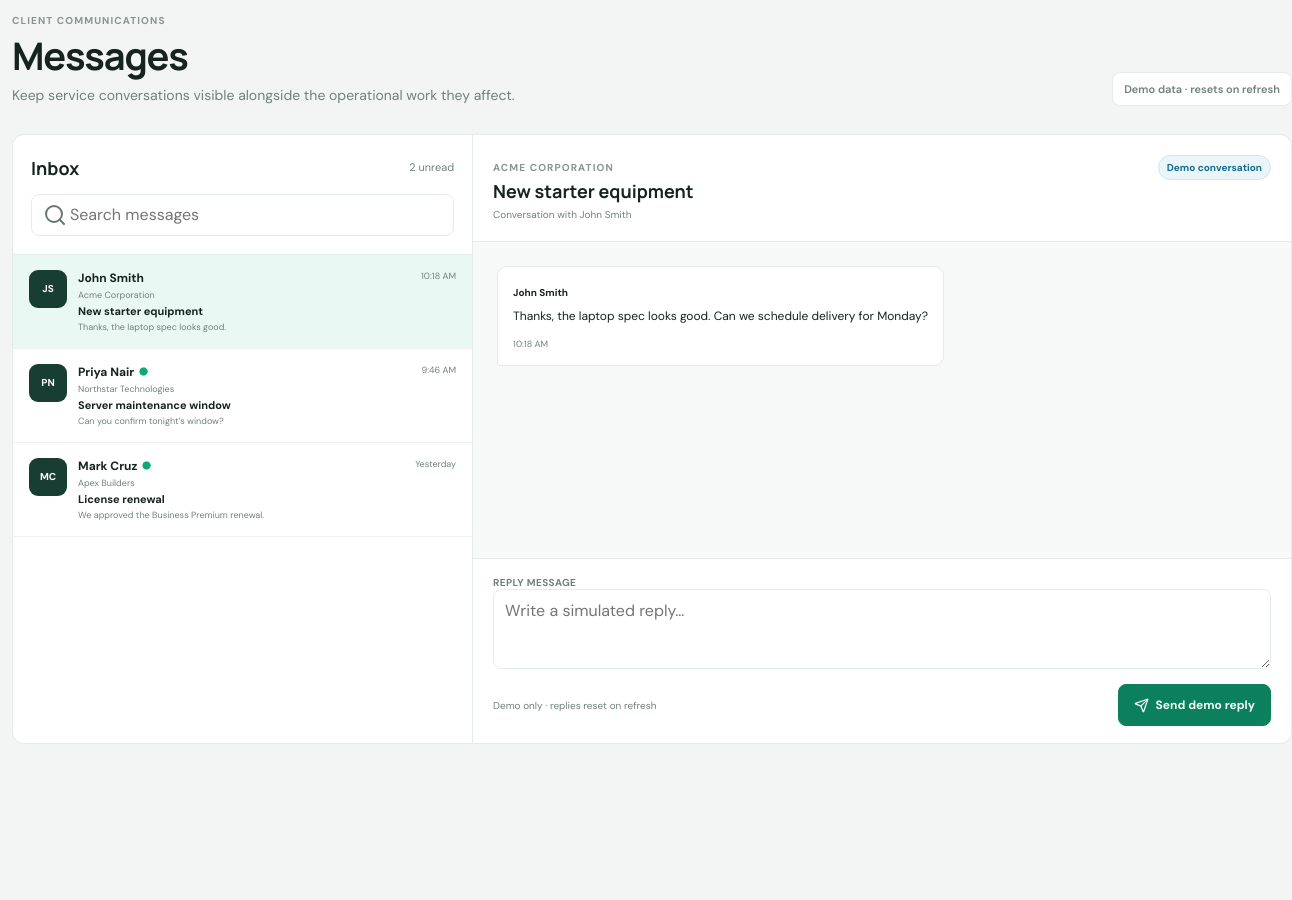
demo module pages › marks a selected conversation read and validates simulated replies
The width and height of the screenshot is (1292, 900).
Expected: the text "2 unread" is shown, [409,160,454,174]
Click the button with aria-label "Open conversation with Priya Nair": (48, 383) [13,349,472,443]
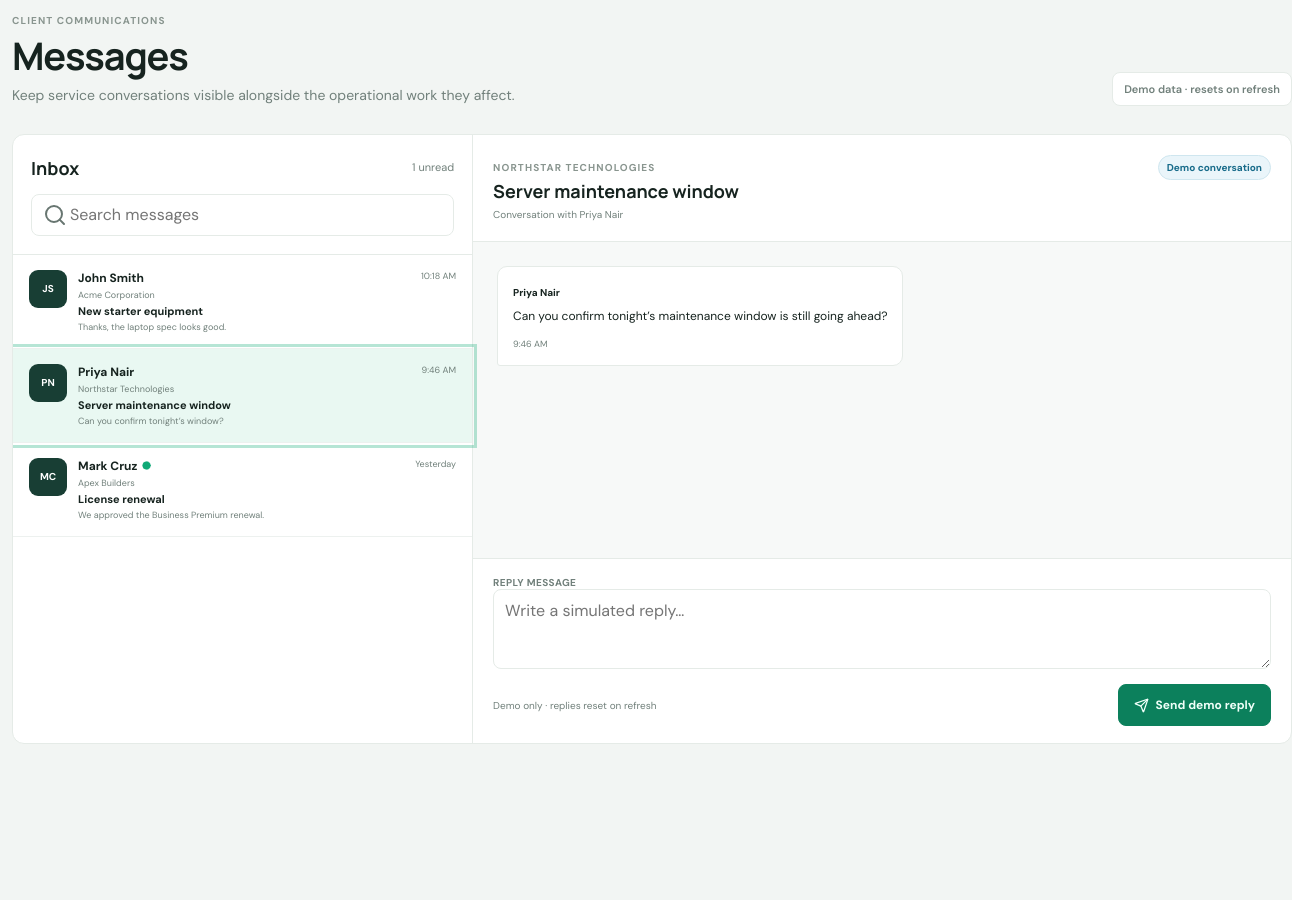
Expected: the text "1 unread" is shown, [412,160,454,174]
Click the button "Send demo reply": (1194, 706) [1118,684,1271,726]
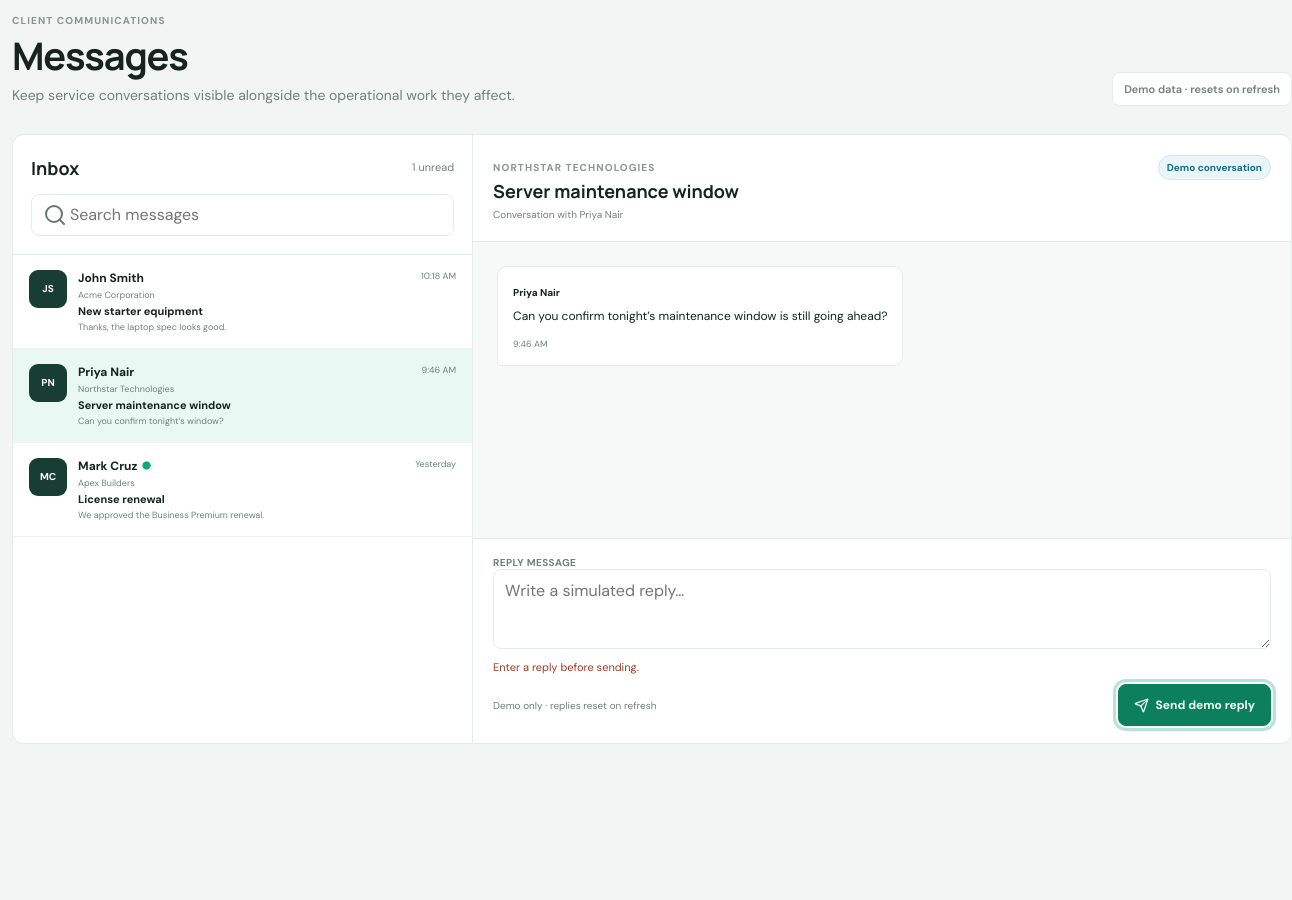
Expected: the text "Enter a reply before sending." is shown, [493,660,639,674]
In the text box labelled "Reply message": (882, 610) [493,570,1271,650], type "The maintenance window is confirmed."
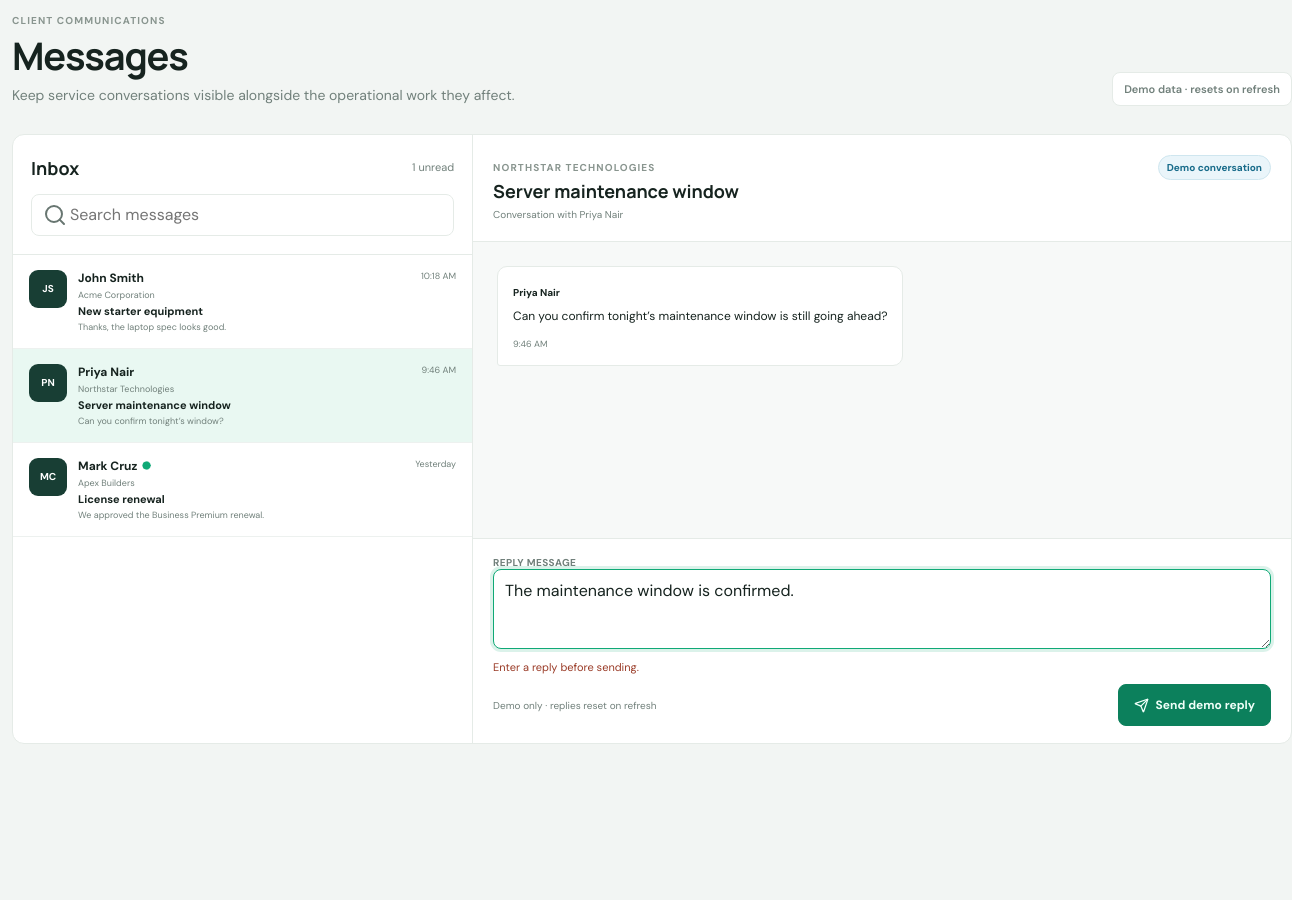
Click the button "Send demo reply": (1194, 706) [1118,684,1271,726]
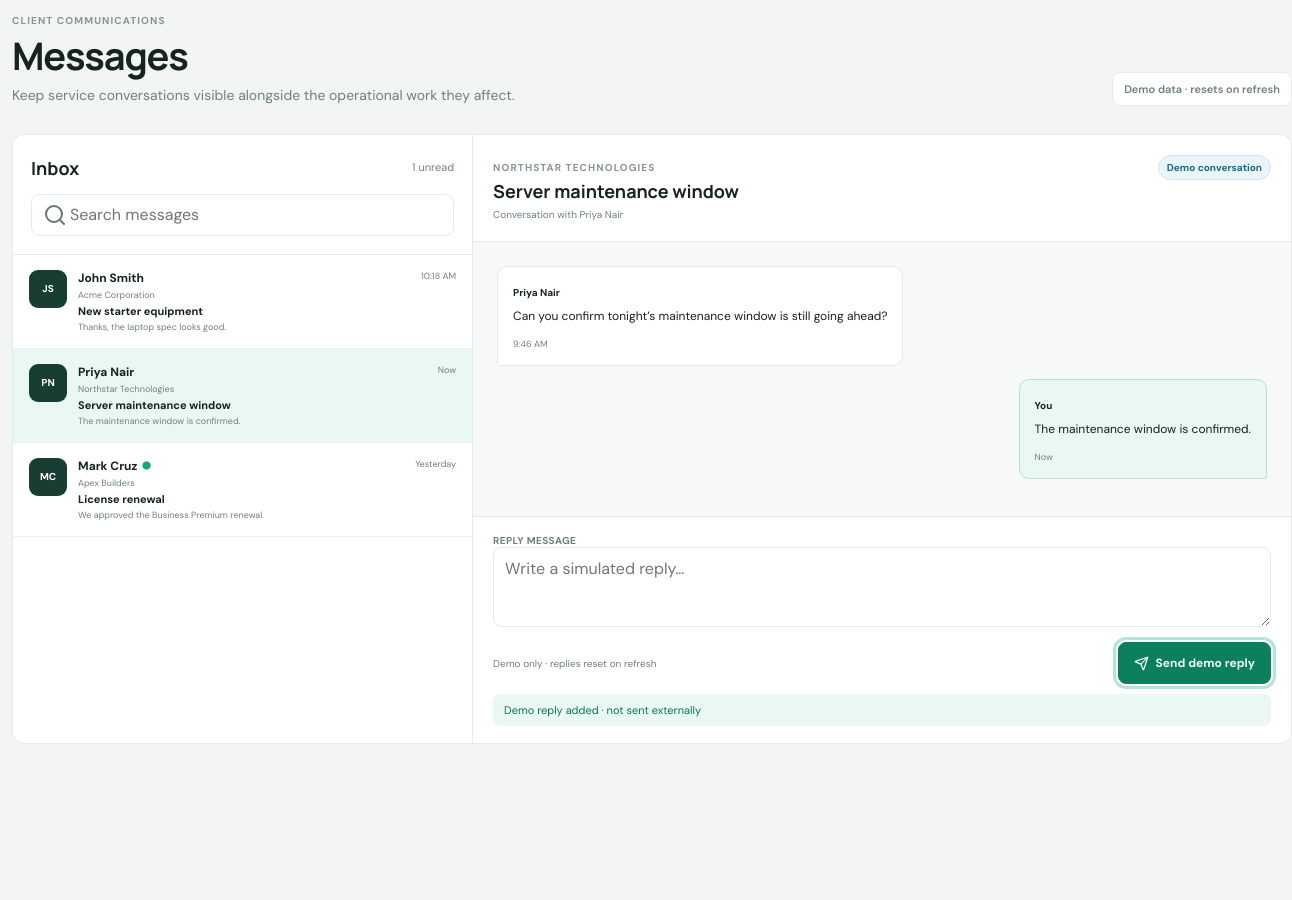
Expected: the text "The maintenance window is confirmed." is shown 2 times, [78,415,240,427]; [1035,420,1251,438]
Expected: the message shows "Demo reply added", [504,704,701,718]
